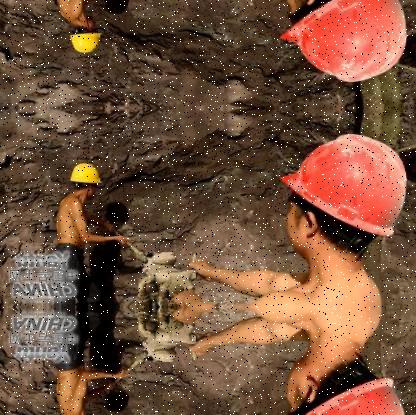helmet: (257, 126, 402, 290), (257, 322, 403, 413), (257, 0, 403, 89), (67, 157, 101, 201), (67, 13, 101, 57)
